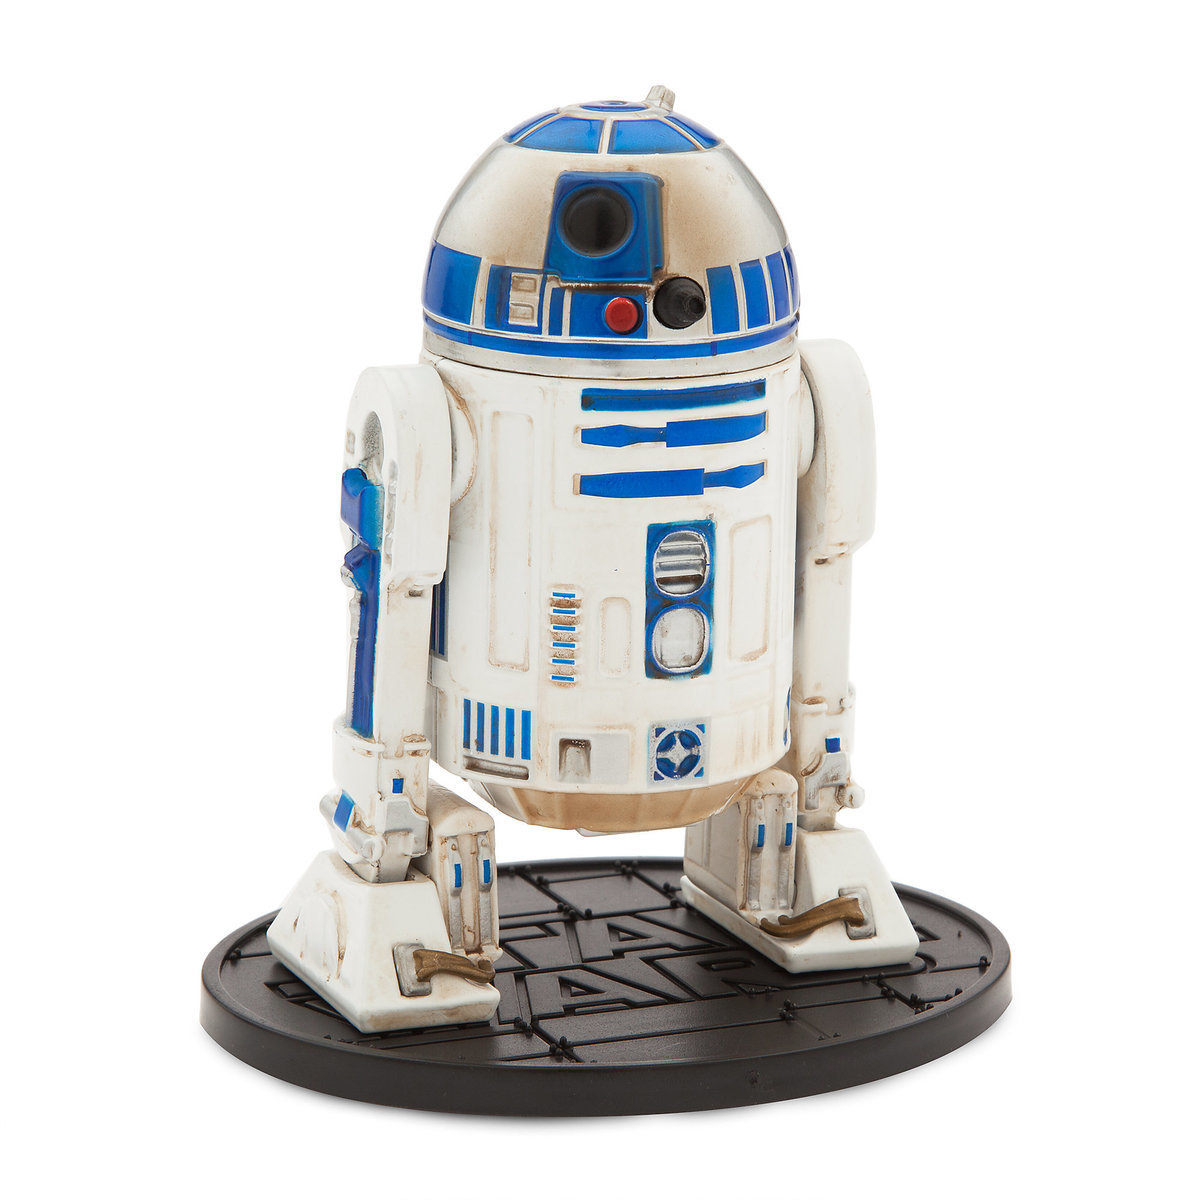r2d2: (281, 95, 915, 1016)
